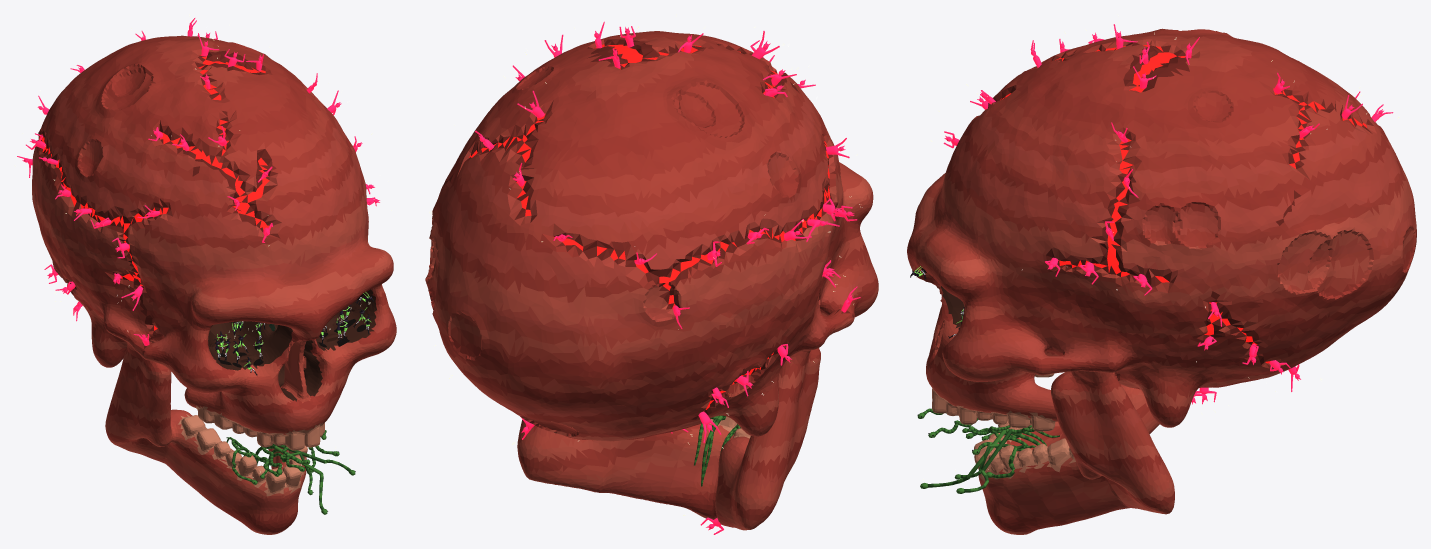
The model's file is halloween_planet.glb.
3 views of the same model, side by side, from view 1: azimuth 30°, elevation 25°; view 2: azimuth 150°, elevation 25°; view 3: azimuth 270°, elevation 25° (orthographic). The views are drawn at different scales.
Parts seen in each view (by area): view 1: HW_Planet_Surface, HW_Mouth_Snakes, HW_Witch_Shadows; view 2: HW_Planet_Surface, HW_Mouth_Snakes; view 3: HW_Planet_Surface, HW_Mouth_Snakes.
Boxes of the visible parts, left/top/right/bottom form: HW_Planet_Surface: left=32, top=35, right=396, bottom=534; HW_Mouth_Snakes: left=226, top=430, right=355, bottom=514; HW_Witch_Shadows: left=217, top=293, right=366, bottom=367; HW_Planet_Surface: left=425, top=31, right=878, bottom=530; HW_Mouth_Snakes: left=694, top=415, right=740, bottom=486; HW_Planet_Surface: left=907, top=28, right=1416, bottom=534; HW_Mouth_Snakes: left=917, top=408, right=1059, bottom=493.
Size of the model in its own units: 34.8 by 49.1 by 44.71.
